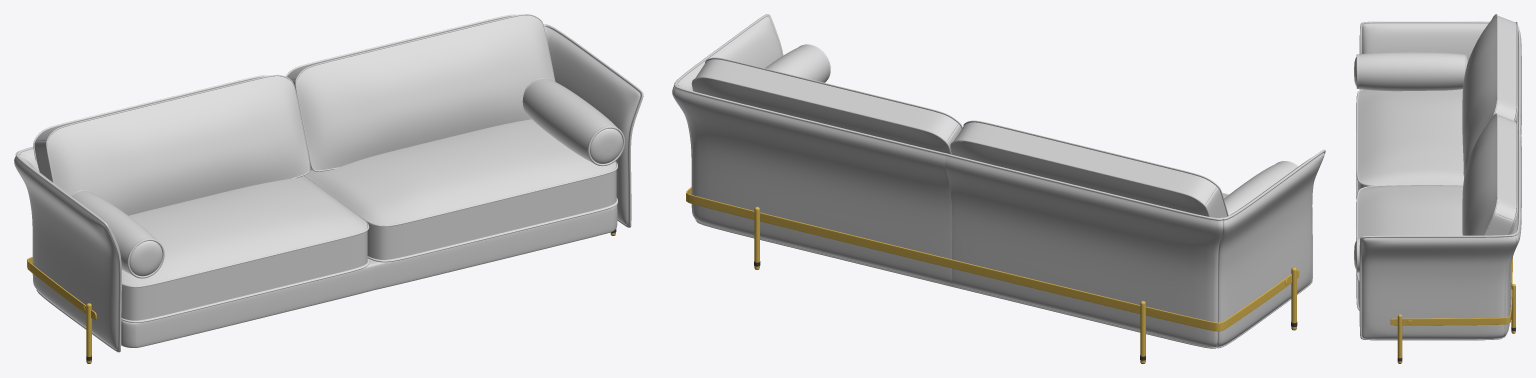
The model's file is SLN_Oasis_3_Seater.glb.
3 renders of one model, left to right at view 1: azimuth 30°, elevation 25°; view 2: azimuth 150°, elevation 25°; view 3: azimuth 270°, elevation 25°, orthographic. The views are drawn at different scales.
Visible parts, largest first — view 1: Oasis_3_Seater; view 2: Oasis_3_Seater; view 3: Oasis_3_Seater.
Boxes of the visible parts, bbox=[...] form: Oasis_3_Seater: bbox=[14, 14, 643, 363]; Oasis_3_Seater: bbox=[672, 14, 1325, 363]; Oasis_3_Seater: bbox=[1354, 14, 1521, 363].
Bounding box in the file's own units: 2.57 × 0.8401 × 0.8436.
